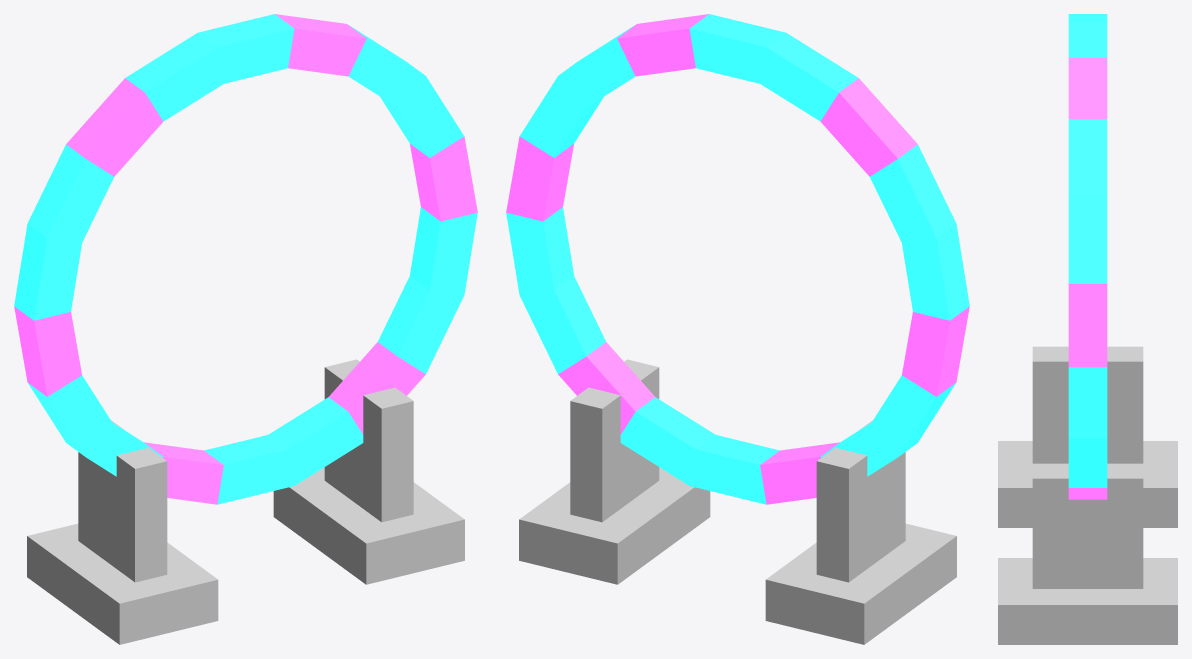
3 renders of one model, left to right at view 1: azimuth 30°, elevation 25°; view 2: azimuth 150°, elevation 25°; view 3: azimuth 270°, elevation 25°, orthographic. The views are drawn at different scales.
Visible parts, largest first — view 1: Neon_HoloRing_Standard; view 2: Neon_HoloRing_Standard; view 3: Neon_HoloRing_Standard.
Part boxes in pixels (box(x1,y1,x2,y2)): Neon_HoloRing_Standard: box(14, 14, 477, 644); Neon_HoloRing_Standard: box(506, 14, 969, 644); Neon_HoloRing_Standard: box(998, 14, 1177, 644).
Size of the model in its own units: 1.8 by 2.09 by 0.65.
